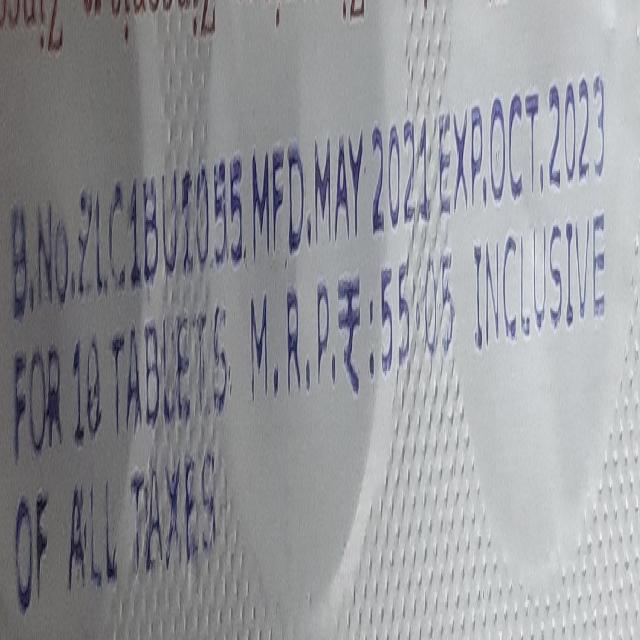sentence: (10, 72, 605, 320), (12, 205, 609, 446), (12, 446, 216, 630)
